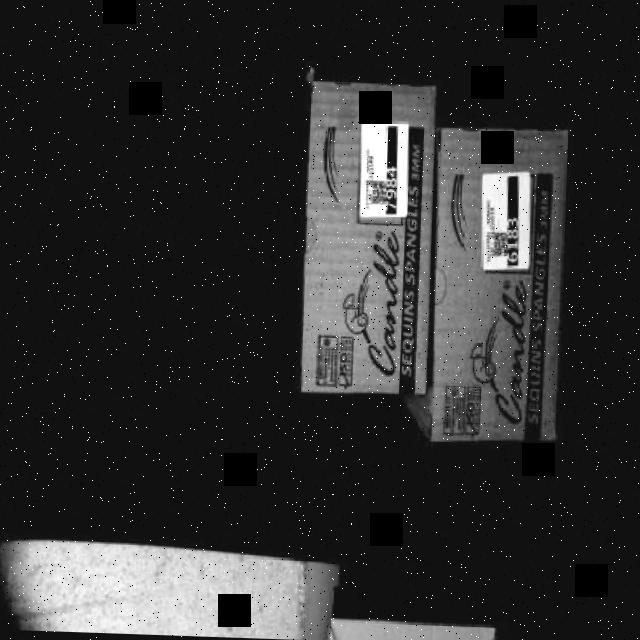box: (309, 75, 439, 398), (432, 128, 566, 438)
